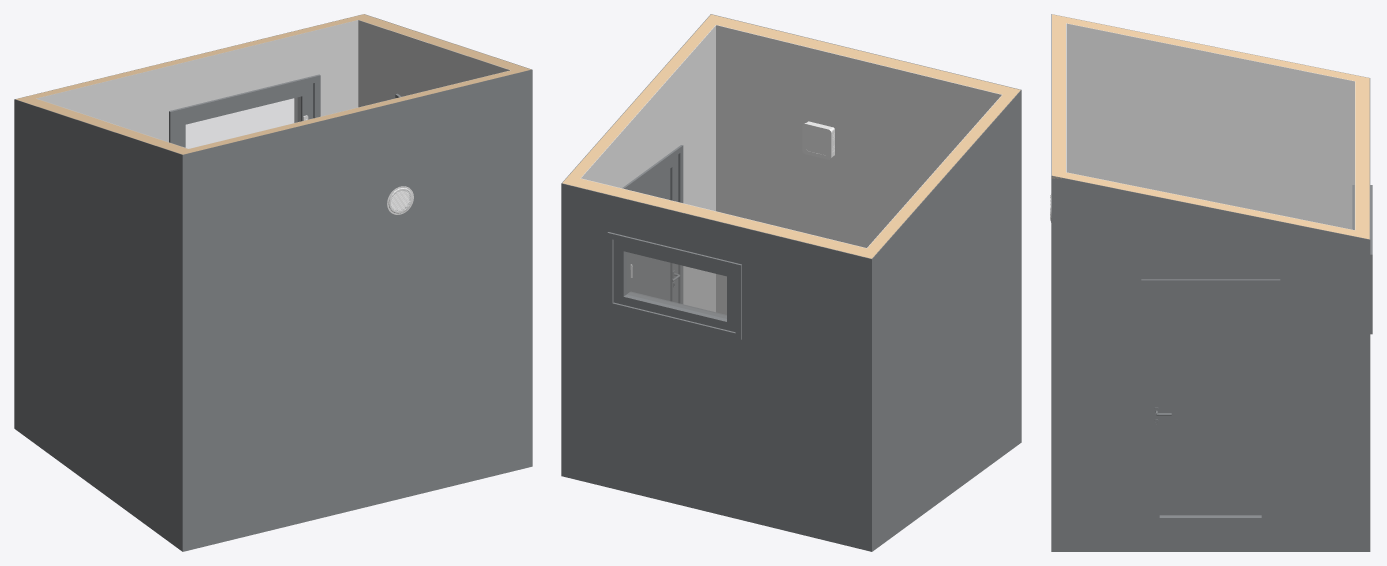
The model's file is sarunas.starkus@svaita.fbx.
3 renders of one model, left to right at view 1: azimuth 30°, elevation 25°; view 2: azimuth 150°, elevation 25°; view 3: azimuth 270°, elevation 25°, orthographic. The views are drawn at different scales.
Parts seen in each view (by area): view 1: IfcWall/Part:2345357, IfcWall/Part:2345363, IfcWall/Part:2345365, IfcWall/Part:2345359, IfcWindow/Langai (Akrusta):1200x600x120 (kairinis):3170628, IfcWall/Part:2345367, IfcWall/Part:2345358, IfcWall/Part:2345364, IfcWall/Part:2345361; view 2: IfcWall/Part:2345366, IfcWall/Part:2345363, IfcWall/Part:2345356, IfcWall/Part:2345359, IfcWindow/Langai (Akrusta):1200x600x120 (kairinis):3170628, IfcDoor/Durys išorinės:1000x2100x120 (dešininės) techninės, IfcWall/Part:2345367, IfcWall/Part:2345358, IfcWall/Part:2345364, IfcWall/Part:2345361, IfcBuildingElementProxy/HVAC_RMN_3TIPAI:Naturalus Vėdinimas:; view 3: IfcWall/Part:2345360, IfcWall/Part:2345362, IfcDoor/Durys išorinės:1000x2100x120 (dešininės) techninės, IfcWall/Part:2345367, IfcWall/Part:2345358, IfcWall/Part:2345364, IfcWall/Part:2345361, IfcWall/Part:2345366, IfcWindow/Langai (Akrusta):1200x600x120 (kairinis):3170628, IfcWall/Part:2345357.
Part boxes in pixels (left/top/right/bottom): IfcWall/Part:2345357: left=183, top=69, right=532, bottom=551; IfcWall/Part:2345363: left=14, top=99, right=183, bottom=551; IfcWall/Part:2345365: left=36, top=20, right=358, bottom=142; IfcWall/Part:2345359: left=358, top=20, right=510, bottom=107; IfcWindow/Langai (Akrusta):1200x600x120 (kairinis):3170628: left=169, top=74, right=320, bottom=148; IfcWall/Part:2345367: left=16, top=14, right=370, bottom=101; IfcWall/Part:2345358: left=189, top=67, right=530, bottom=151; IfcWall/Part:2345364: left=23, top=98, right=195, bottom=154; IfcWall/Part:2345361: left=359, top=16, right=523, bottom=70; IfcWall/Part:2345366: left=561, top=183, right=872, bottom=551; IfcWall/Part:2345363: left=872, top=89, right=1021, bottom=551; IfcWall/Part:2345356: left=716, top=25, right=1001, bottom=314; IfcWall/Part:2345359: left=581, top=25, right=715, bottom=311; IfcWindow/Langai (Akrusta):1200x600x120 (kairinis):3170628: left=607, top=232, right=741, bottom=339; IfcDoor/Durys išorinės:1000x2100x120 (dešininės) techninės: left=622, top=145, right=683, bottom=303; IfcWall/Part:2345367: left=562, top=176, right=877, bottom=258; IfcWall/Part:2345358: left=705, top=14, right=1008, bottom=94; IfcWall/Part:2345364: left=867, top=87, right=1020, bottom=251; IfcWall/Part:2345361: left=569, top=22, right=715, bottom=178; IfcBuildingElementProxy/HVAC_RMN_3TIPAI:Naturalus Vėdinimas:: left=802, top=121, right=834, bottom=159; IfcWall/Part:2345360: left=1052, top=175, right=1369, bottom=551; IfcWall/Part:2345362: left=1066, top=23, right=1354, bottom=229; IfcDoor/Durys išorinės:1000x2100x120 (dešininės) techninės: left=1141, top=279, right=1280, bottom=528; IfcWall/Part:2345367: left=1355, top=75, right=1369, bottom=239; IfcWall/Part:2345358: left=1052, top=20, right=1065, bottom=178; IfcWall/Part:2345364: left=1052, top=14, right=1355, bottom=80; IfcWall/Part:2345361: left=1066, top=172, right=1355, bottom=236; IfcWall/Part:2345366: left=1369, top=78, right=1370, bottom=551; IfcWindow/Langai (Akrusta):1200x600x120 (kairinis):3170628: left=1352, top=185, right=1372, bottom=334; IfcWall/Part:2345357: left=1051, top=14, right=1051, bottom=551.
Bounding box in the file's own units: 307 × 325 × 253.
